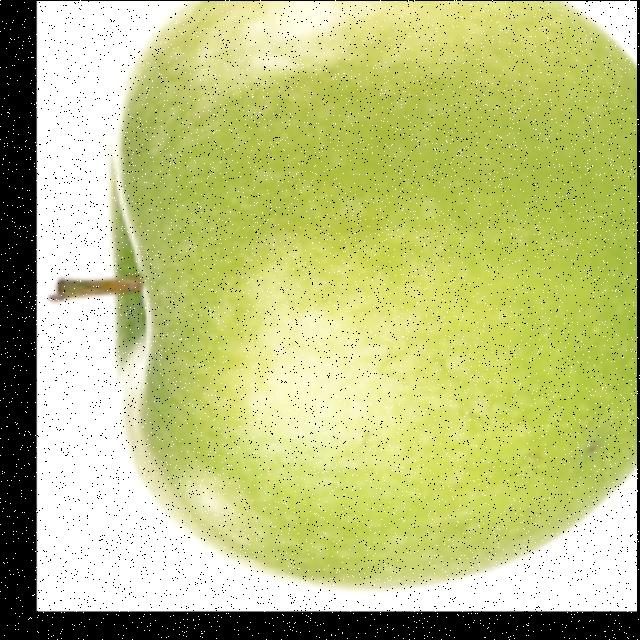Apel Segar: (113, 0, 636, 587)
